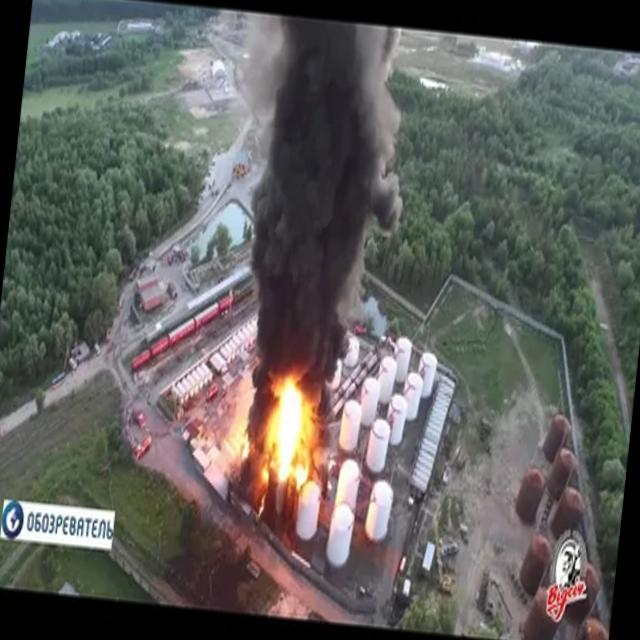Smoke: (223, 11, 421, 438)
